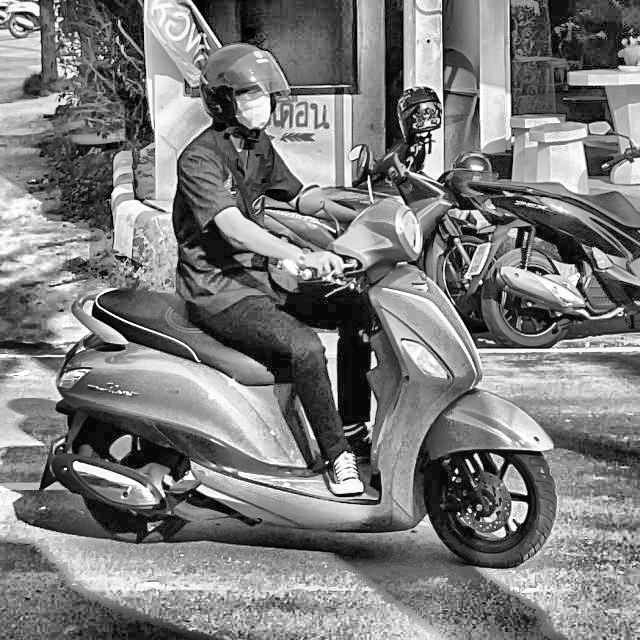Helmet: (197, 39, 294, 138)
